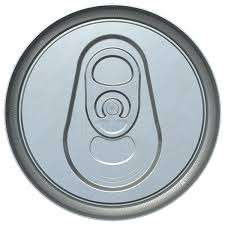can: (6, 1, 221, 220)
